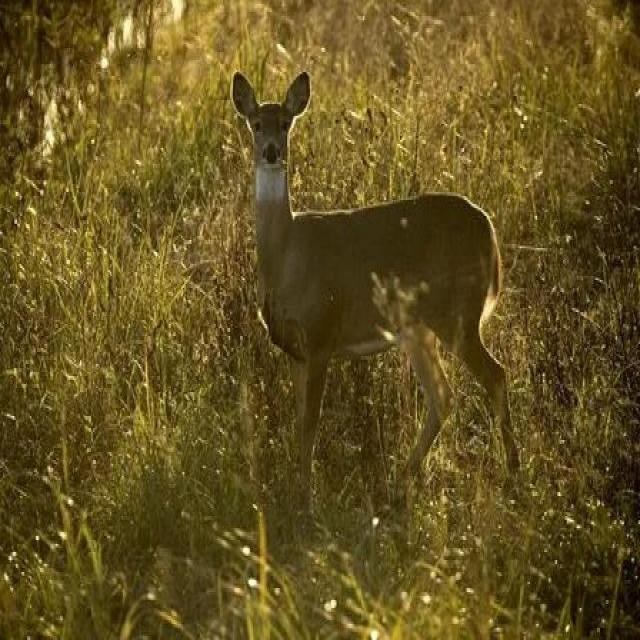deer: (188, 25, 536, 552)
